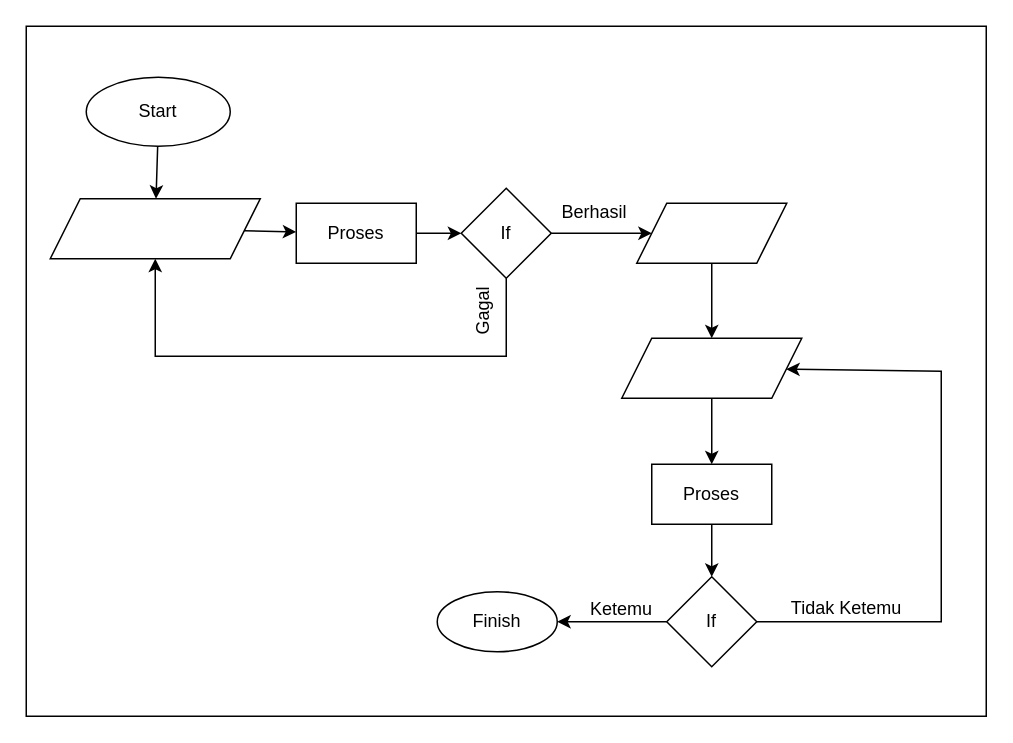
The diagram is 1013 pixels wide and 743 high, and some of its shapes have lost their labels. Each missing label, with the centre of its shape:
Isi Buku Kunjungan: point (154, 228)
Keperluan: point (711, 232)
Mencari Buku: point (711, 367)
